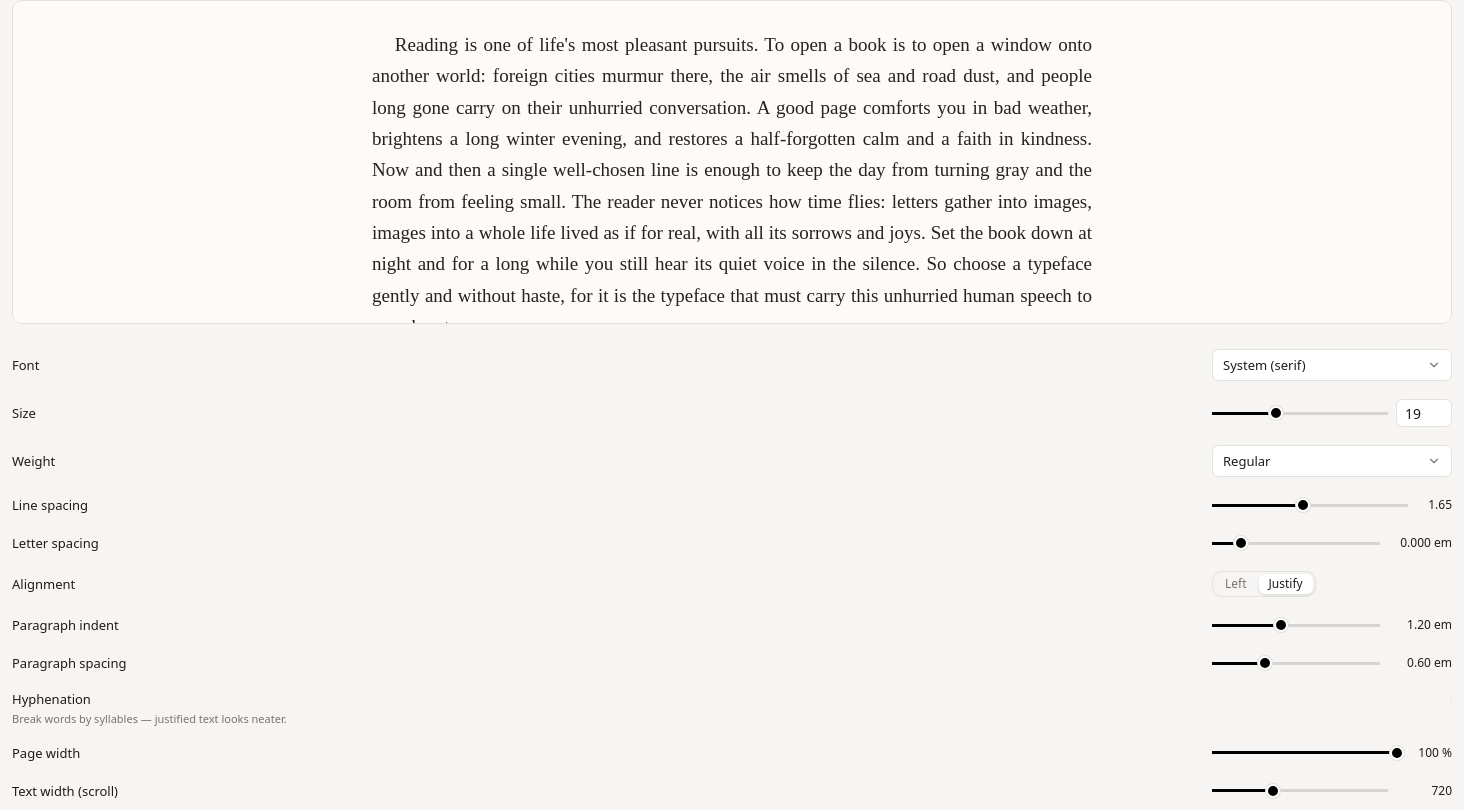
Test: TypographyPanel › align segmented patches page.textAlign
Click the tab "Left" at (1236, 584), box top-left (1215, 574), bottom-right (1256, 594)
(page scrolled)
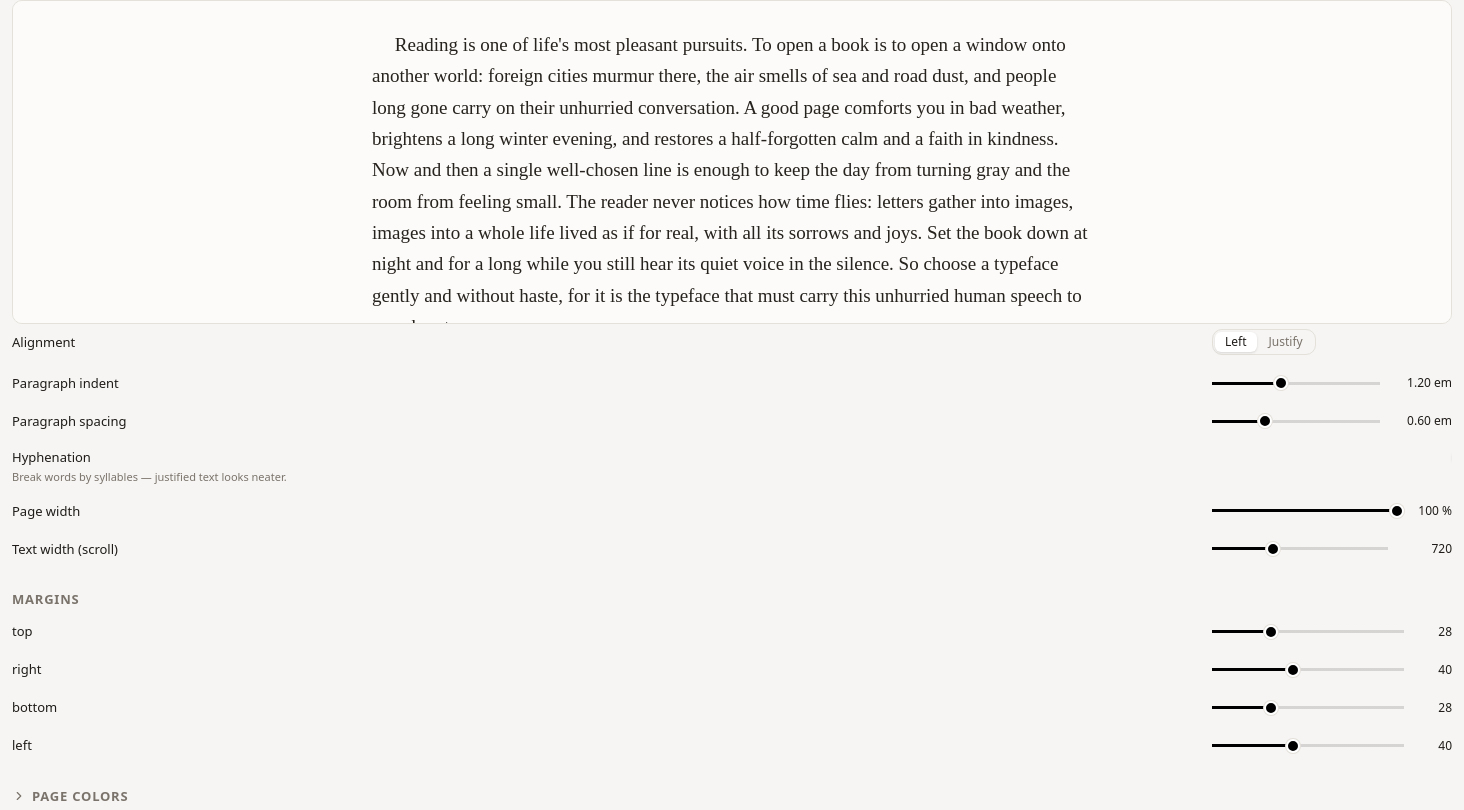
Now the text "left" is shown, box top-left (12, 736), bottom-right (32, 754)
